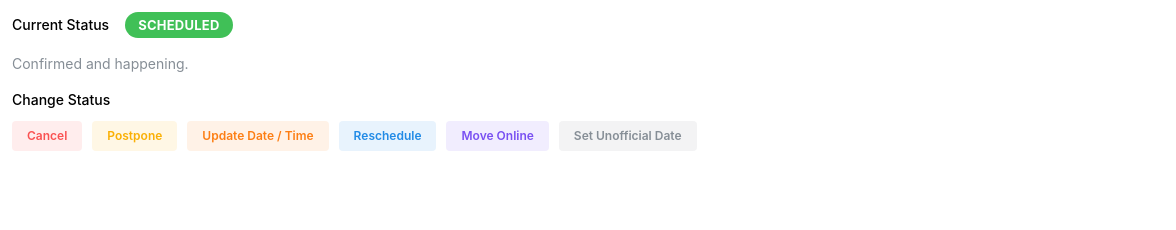
Test: EventStatusSection › clicking "Move Online" shows status_explanation and online event URL field
Click the button "Move Online" at (498, 136), box [446,121,549,151]
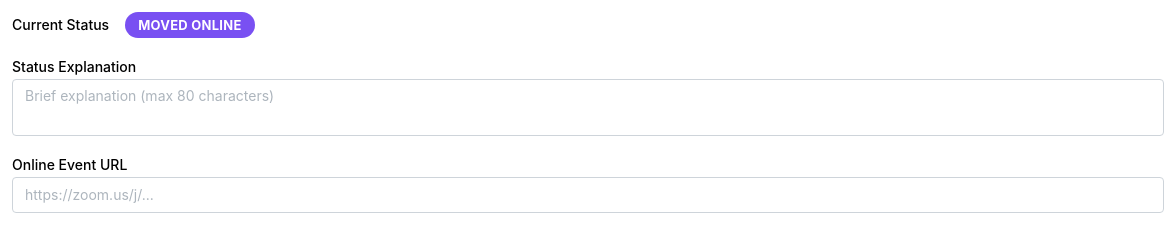
expect the text "Status Explanation" is shown: met, box [12,56,136,78]
expect the text "Online Event URL" is shown: met, box [12,154,127,176]
